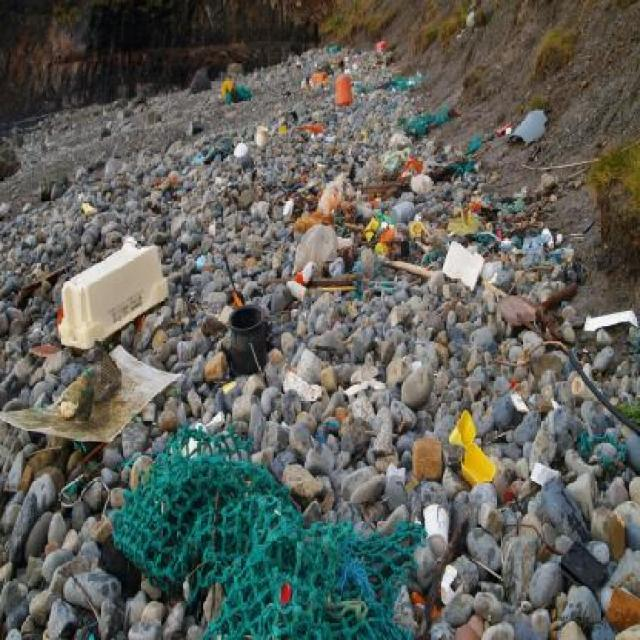garbage: (8, 443, 452, 640), (17, 316, 166, 510), (25, 243, 222, 360), (280, 165, 429, 309), (474, 181, 553, 294), (290, 45, 399, 108), (217, 277, 276, 388), (499, 109, 576, 160), (402, 108, 460, 138), (209, 69, 253, 106)
